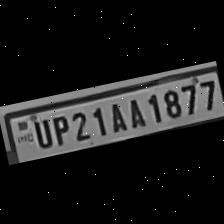1: (84, 100, 110, 138), (140, 88, 163, 124)
2: (66, 106, 92, 142)
7: (195, 76, 220, 110), (177, 80, 200, 116)
8: (157, 84, 183, 120)
A: (102, 96, 128, 133), (121, 92, 147, 129)
P: (46, 110, 72, 146)
U: (28, 114, 53, 149)
